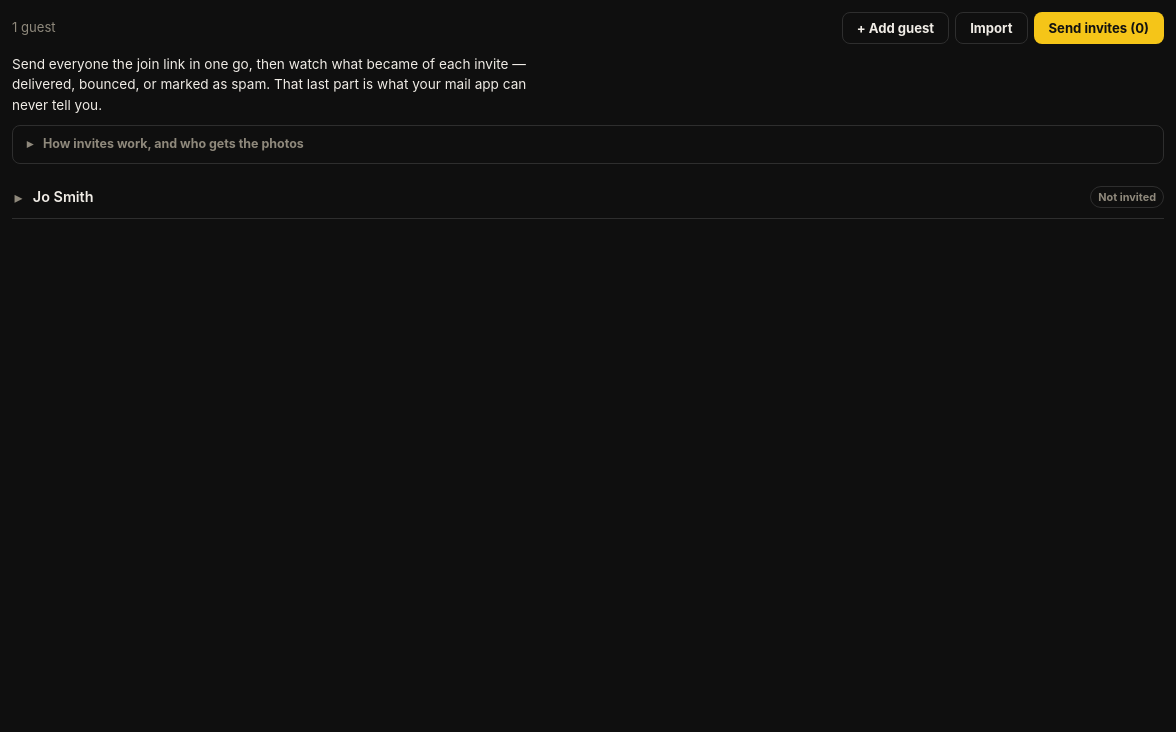
the import preview › shows the header row, greyed, with its reason — so the numbering explains itself
Click the button "Import". click: (991, 28)
box: [955, 12, 1028, 44]
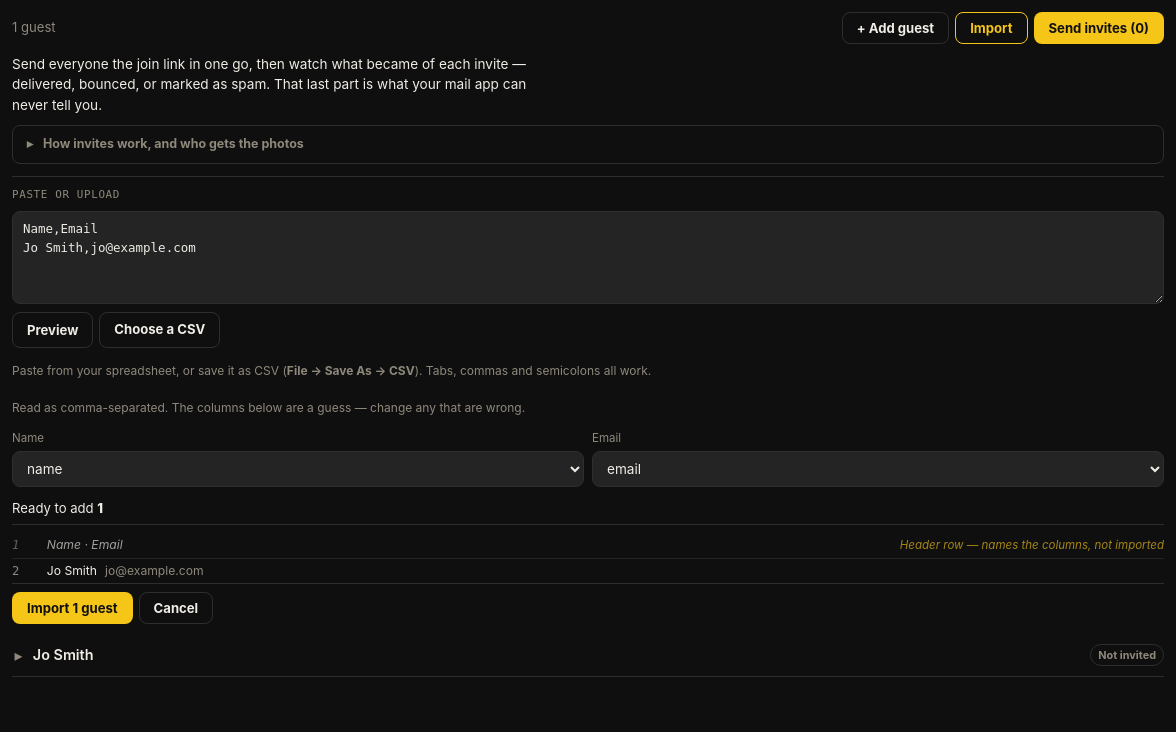
Check: the element with class "hdr" is shown, box [12, 533, 1164, 559]
Check: the text "1" next to "Name · Email" is shown, box [12, 538, 19, 552]
Check: the element with class "hdr" shows "Header row", box [900, 538, 1164, 552]
